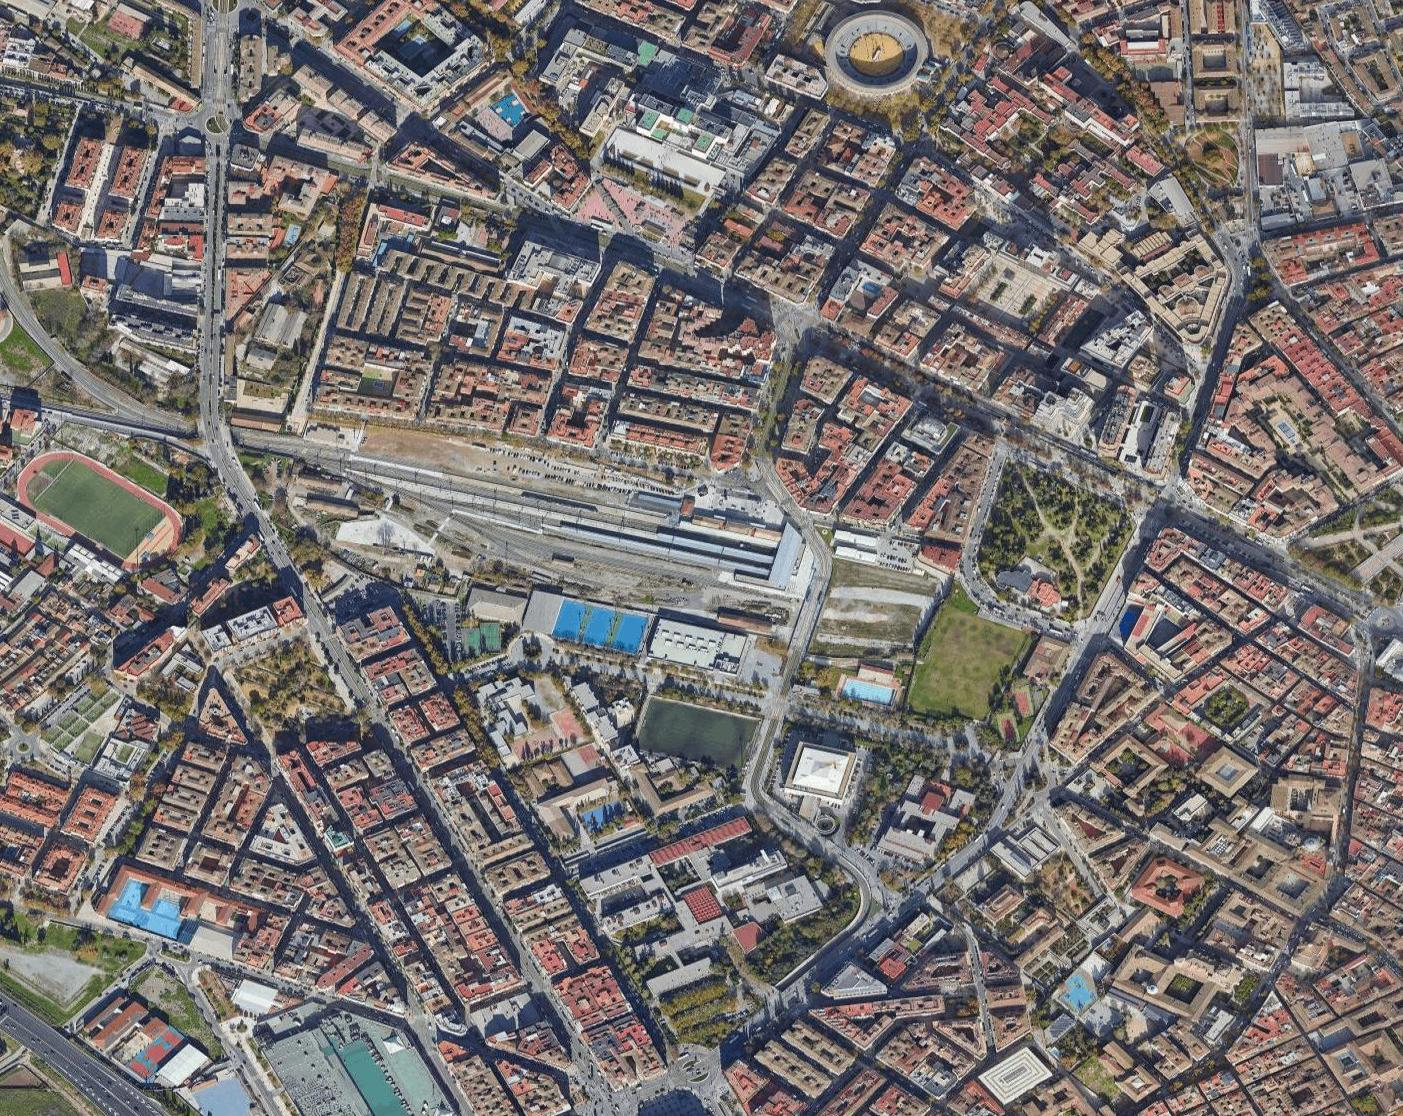train_station: (484, 454, 807, 627)
